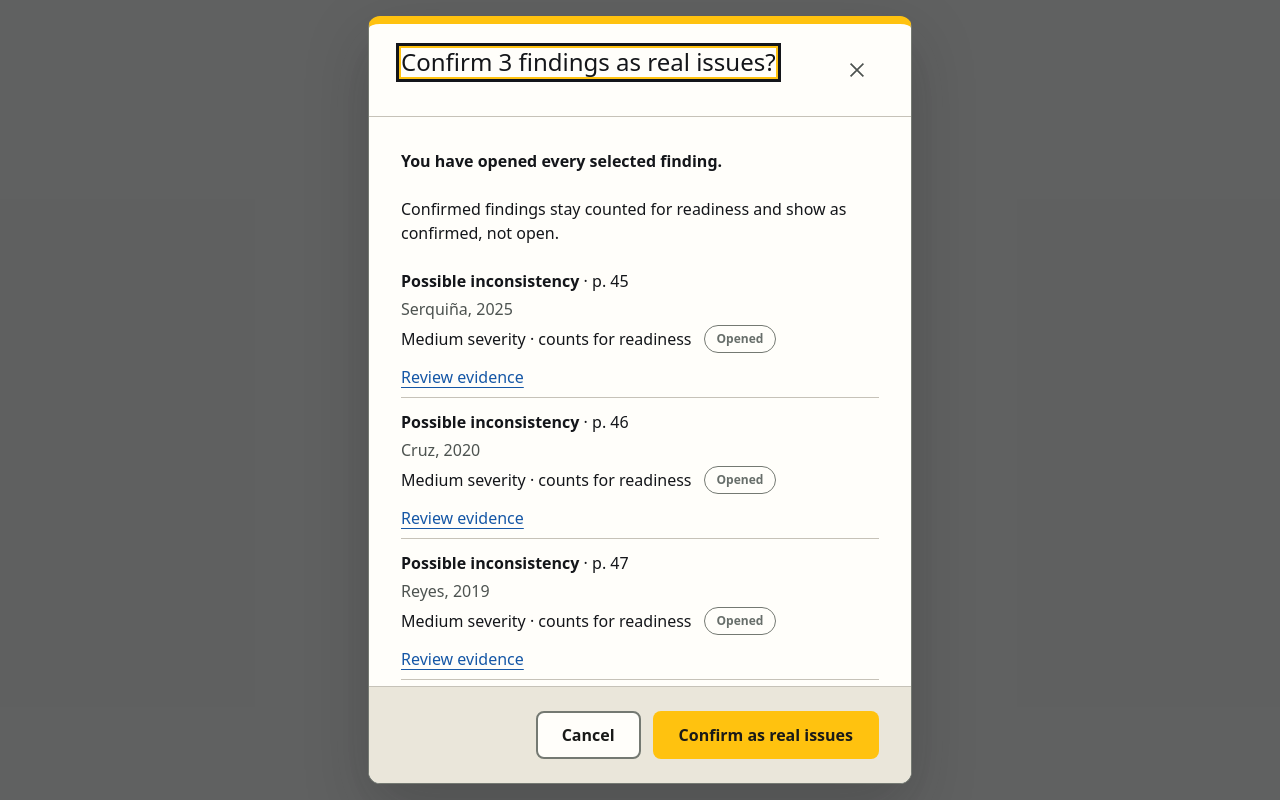
it: bulk confirm and dismiss › says a refusal of the request as a whole once for the dialog, never at the comment
What coordinates should you click on to do the following:
click the button "Confirm as real issues"
I would click on:
 (766, 735)
Its box is [653, 711, 879, 759].
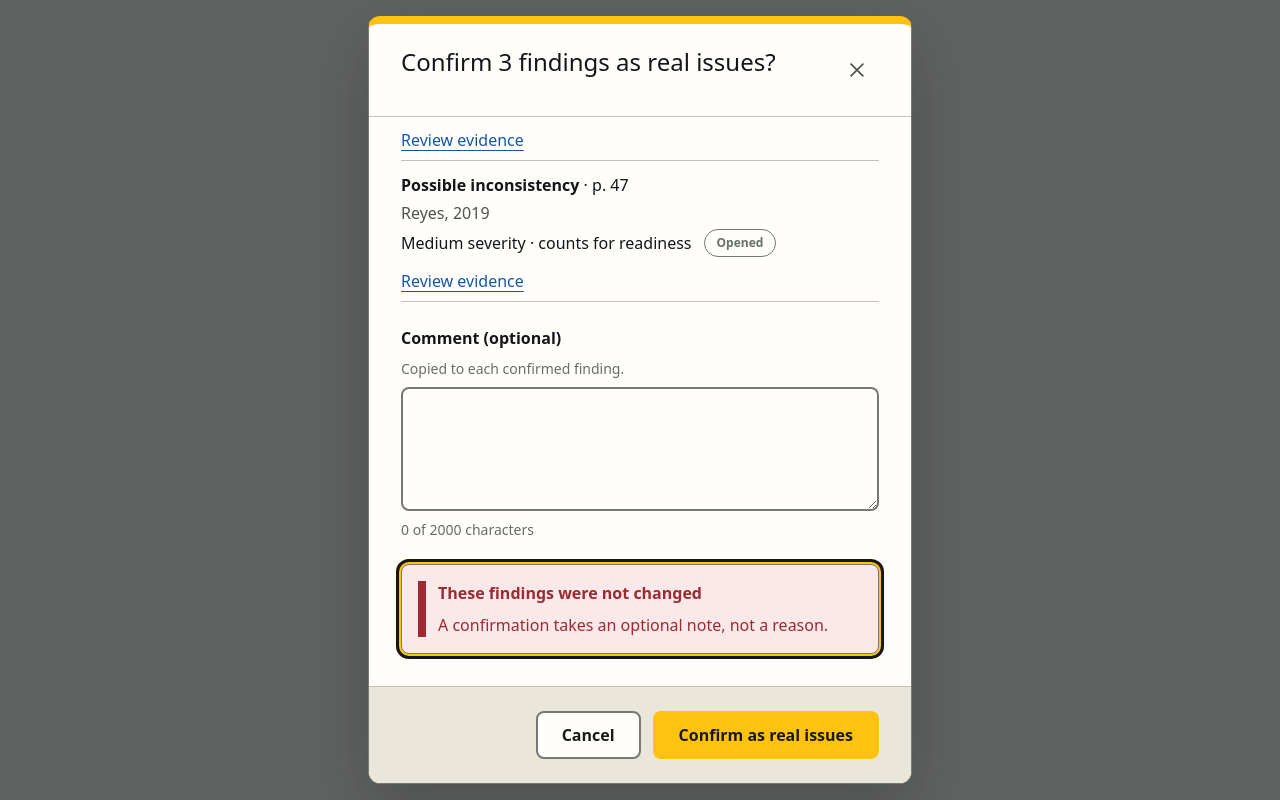
Now the text "A confirmation takes an optional note, not a reason." is shown, box [438, 613, 862, 637]
